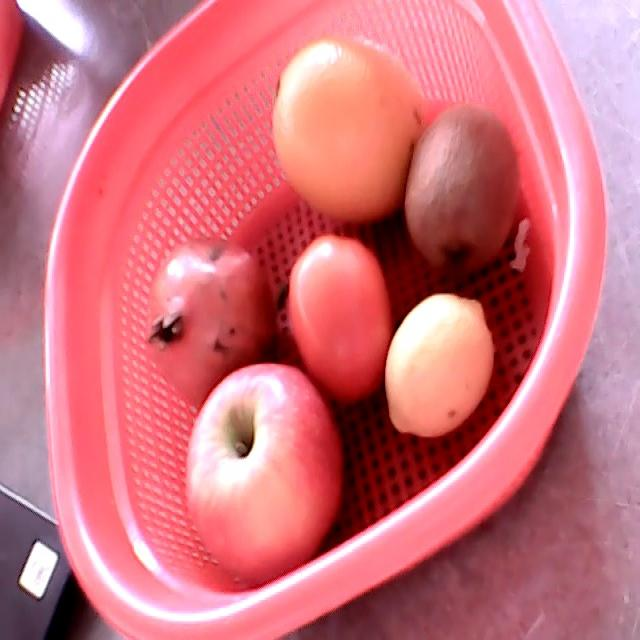apple: (184, 364, 346, 582)
kiwi: (405, 104, 518, 272)
lemon: (385, 293, 495, 440)
orange: (272, 37, 428, 223)
pomegranate: (143, 234, 275, 407)
tomato: (288, 234, 393, 405)
